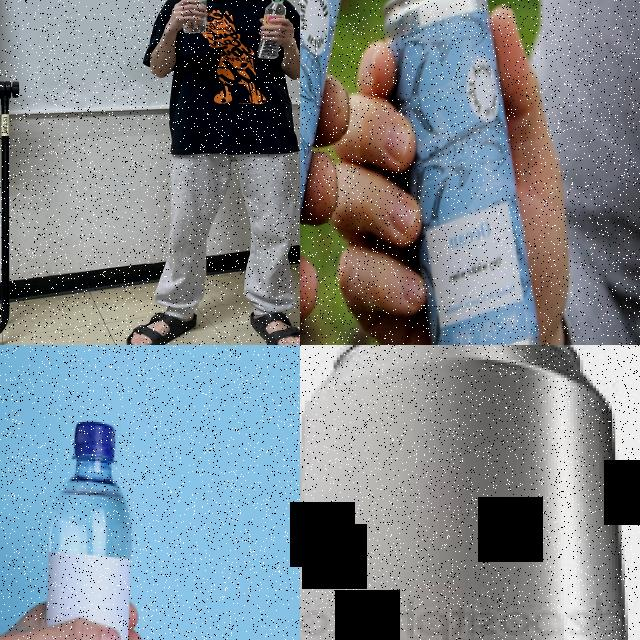bottle: (36, 422, 136, 640), (255, 0, 288, 60), (181, 0, 205, 35)
can: (300, 345, 635, 640), (386, 0, 542, 345)
